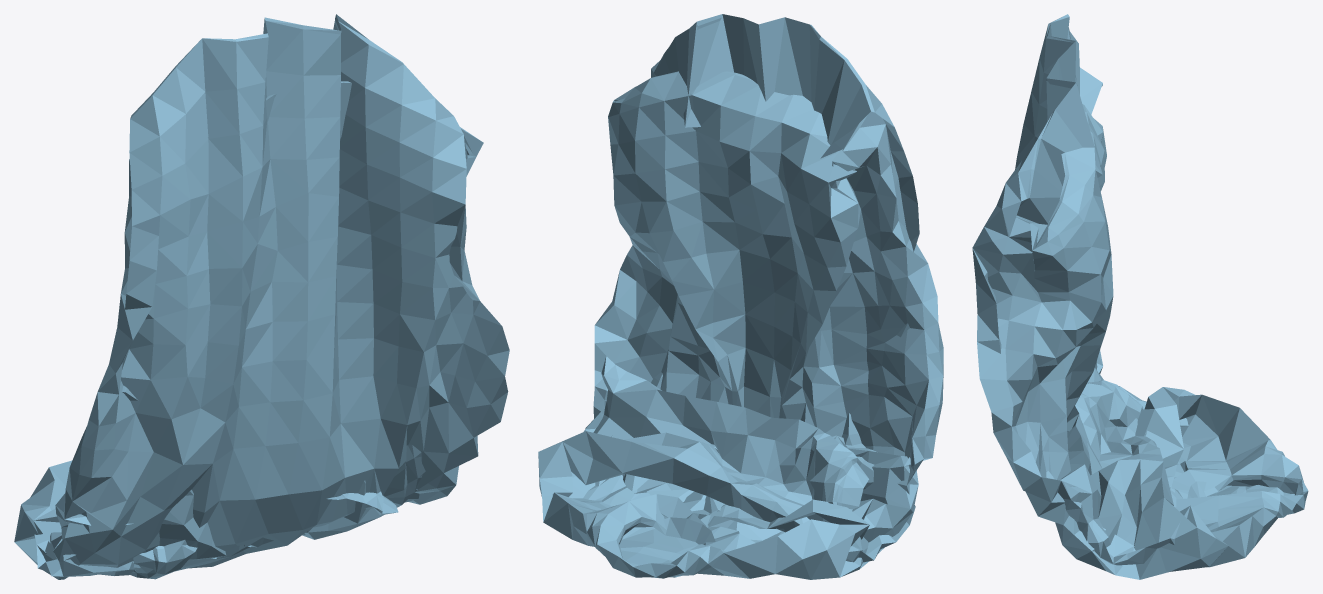
Rendered from frame_12.glb.
The picture shows the model from 3 angles, left to right: view 1: azimuth 30°, elevation 25°; view 2: azimuth 150°, elevation 25°; view 3: azimuth 270°, elevation 25°; orthographic projection. The views are drawn at different scales.
Visible parts, largest first — view 1: frame_12.obj; view 2: frame_12.obj; view 3: frame_12.obj.
Boxes of the visible parts, x1=… form: frame_12.obj: x1=14, y1=14, x2=509, y2=579; frame_12.obj: x1=538, y1=14, x2=943, y2=579; frame_12.obj: x1=972, y1=14, x2=1308, y2=579.
Bounding box in the file's own units: 1.03 × 1.33 × 0.8595.
